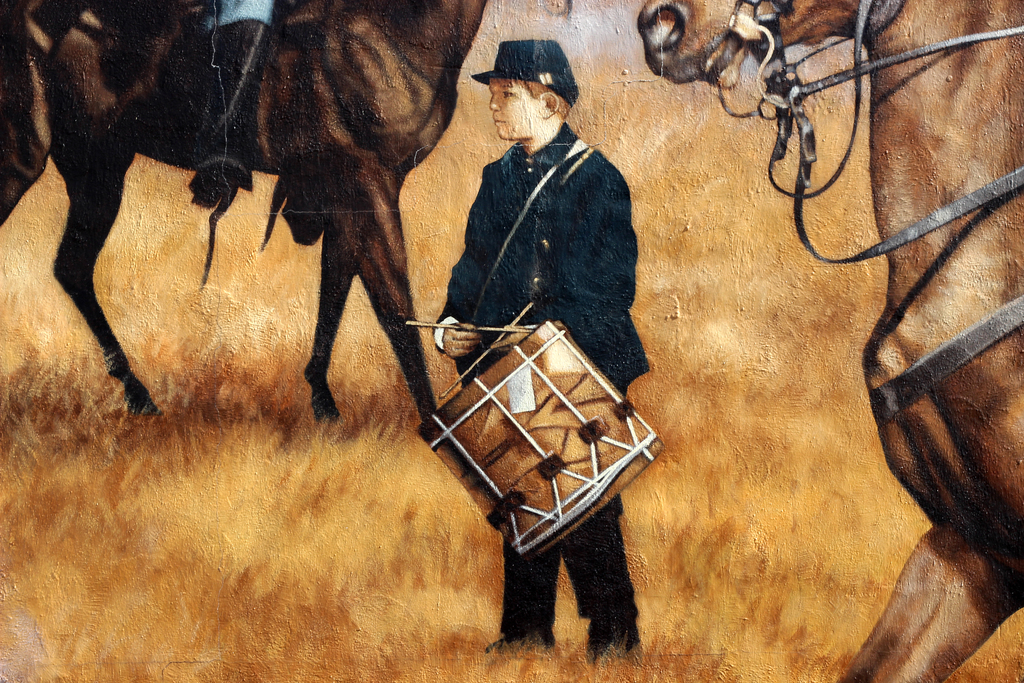Person: (432, 37, 653, 668)
